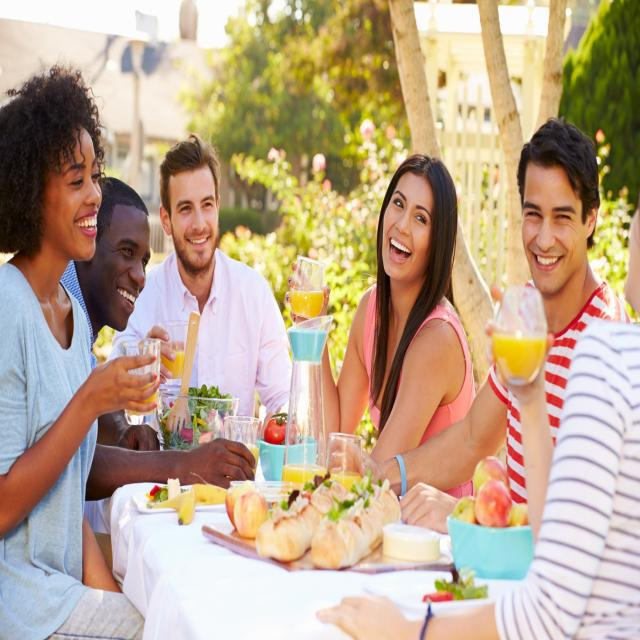body: (316, 199, 640, 640), (325, 115, 633, 539), (0, 60, 164, 640), (284, 153, 476, 539), (105, 132, 295, 447), (48, 176, 235, 496)
